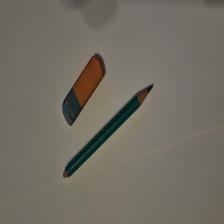eraser: (63, 57, 106, 128)
pencil: (64, 86, 154, 180)
